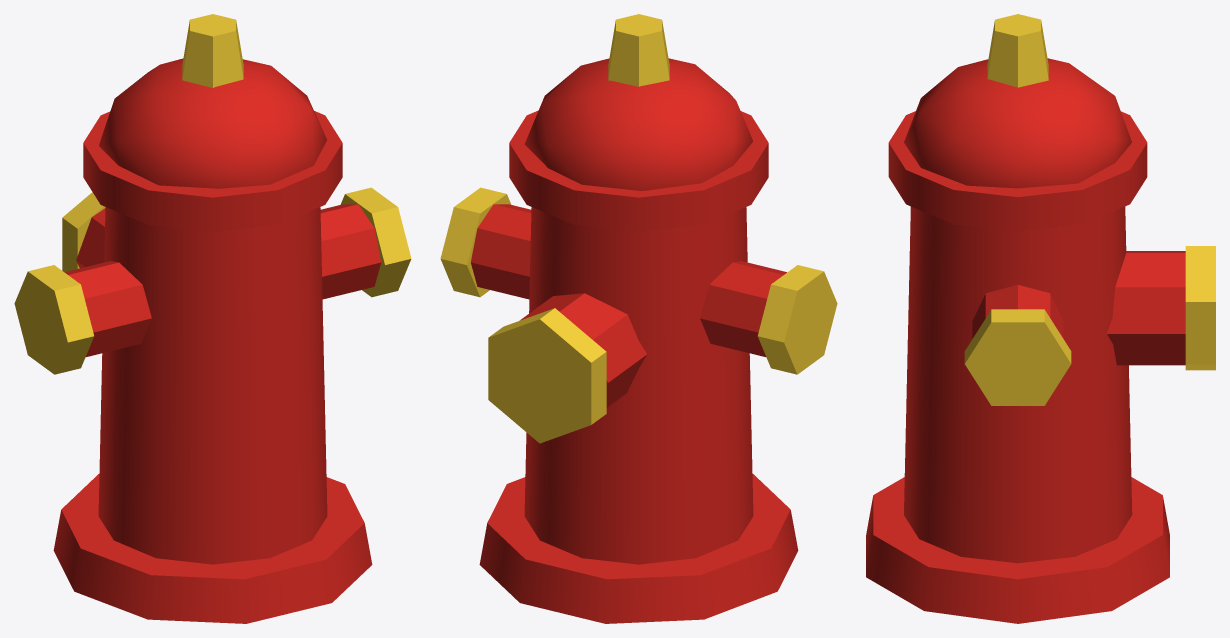
Rendered from hydrant.glb.
The picture shows the model from 3 angles, left to right: view 1: azimuth 30°, elevation 25°; view 2: azimuth 150°, elevation 25°; view 3: azimuth 270°, elevation 25°; orthographic projection.
Visible parts, largest first — view 1: PROP_hydrant; view 2: PROP_hydrant; view 3: PROP_hydrant.
Part boxes in pixels (<box>): PROP_hydrant: <box>14,14,411,623</box>; PROP_hydrant: <box>440,14,837,623</box>; PROP_hydrant: <box>866,14,1215,623</box>.
Bounding box in the file's own units: 0.52 × 0.77 × 0.4597.
